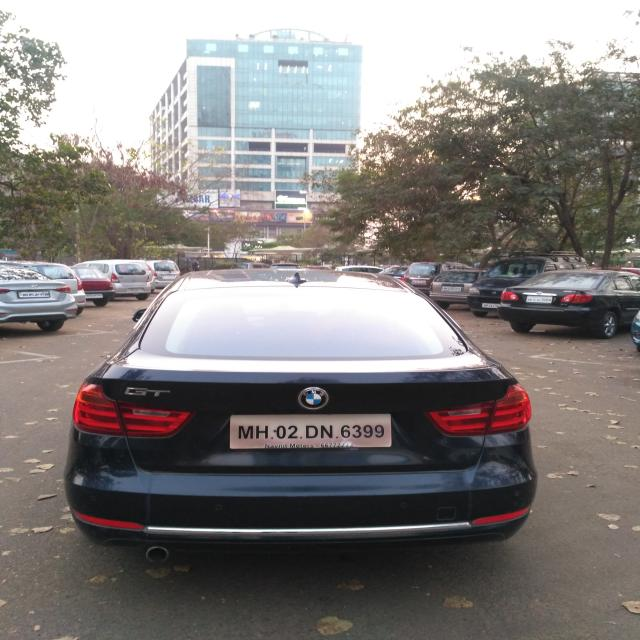Number-Plate: (235, 414, 391, 445)
